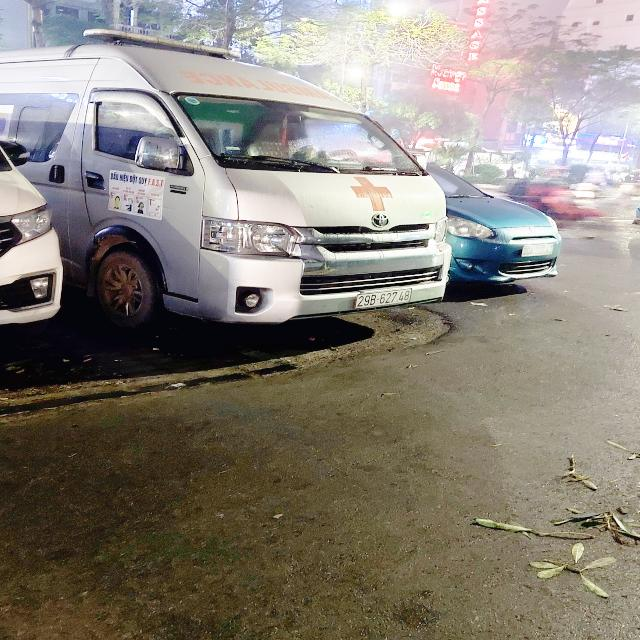license_plate: (355, 288, 414, 311)
